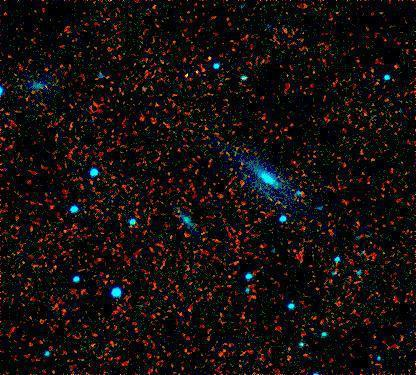star: (166, 195, 196, 225)
